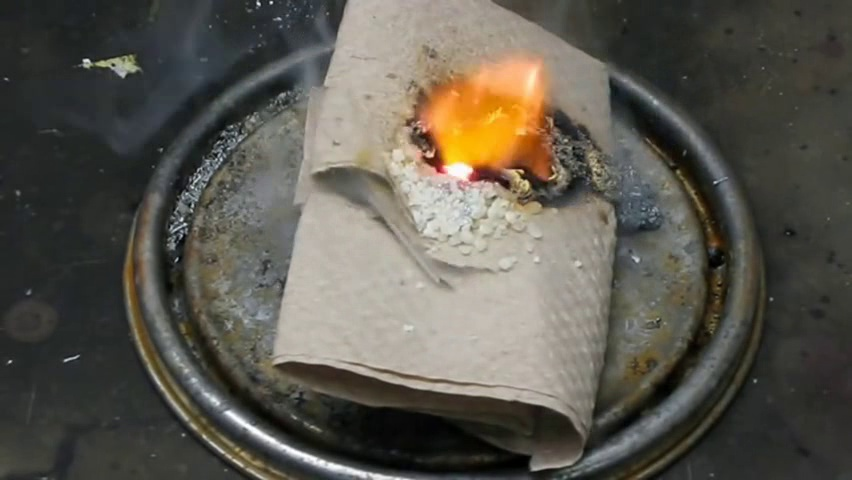fire: (411, 45, 554, 184)
